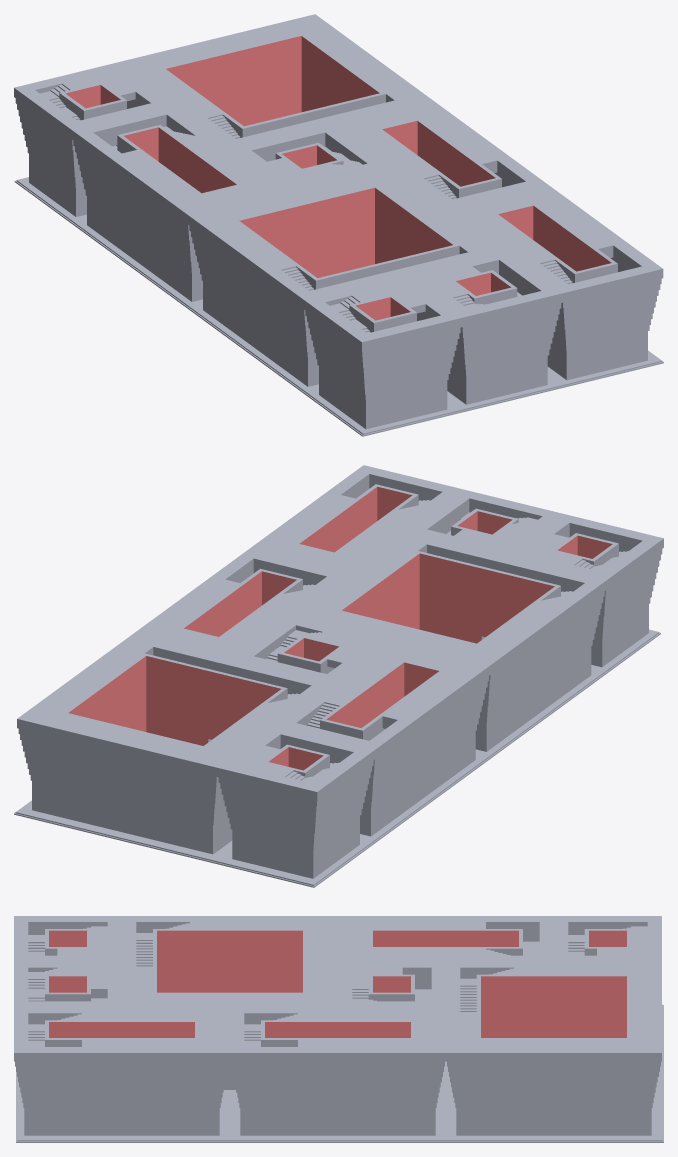
The model's file is maze_01.glb.
3 renders of one model, top to bottom at view 1: azimuth 30°, elevation 25°; view 2: azimuth 150°, elevation 25°; view 3: azimuth 270°, elevation 25°, orthographic. The views are drawn at different scales.
Parts seen in each view (by area): view 1: mass; view 2: mass; view 3: mass.
Part boxes in pixels (box(x1,y1,x2,y2)): mass: box(14, 14, 663, 436); mass: box(14, 465, 663, 887); mass: box(14, 916, 663, 1142).
Size of what is drawn, in the model's own units: 48.3 by 14.58 by 96.3.
